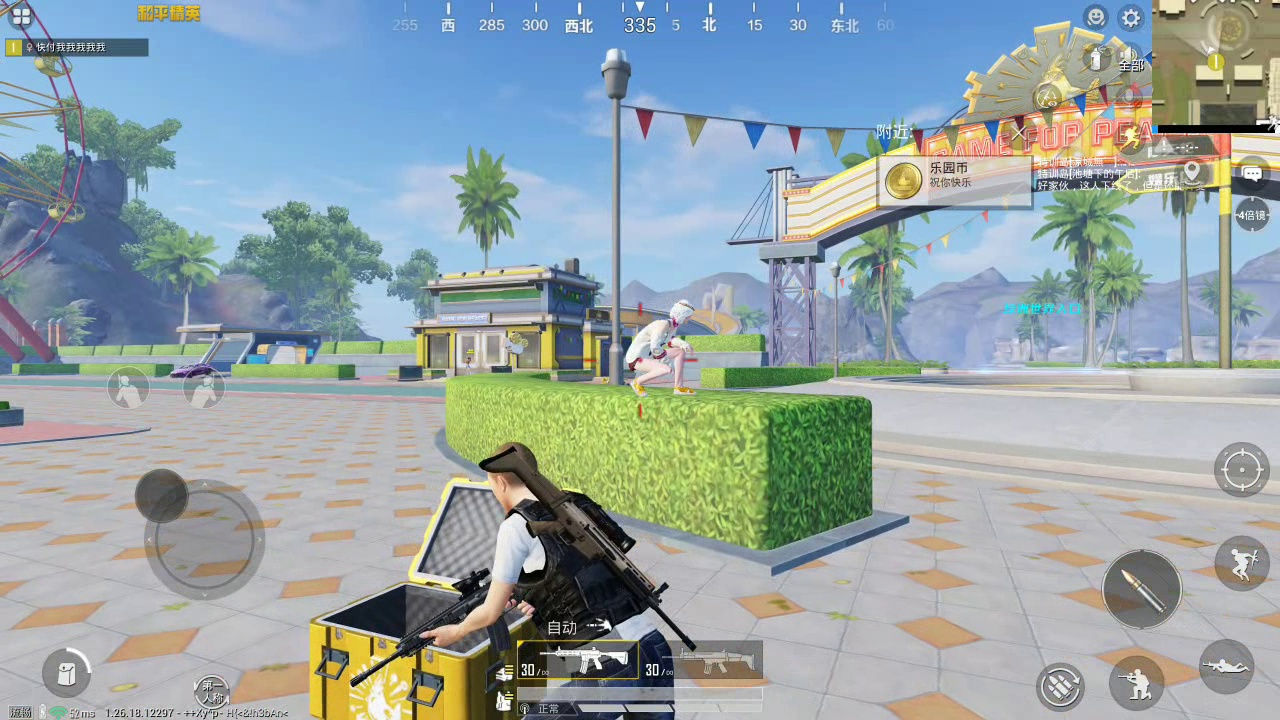enemy: (623, 302, 687, 395)
